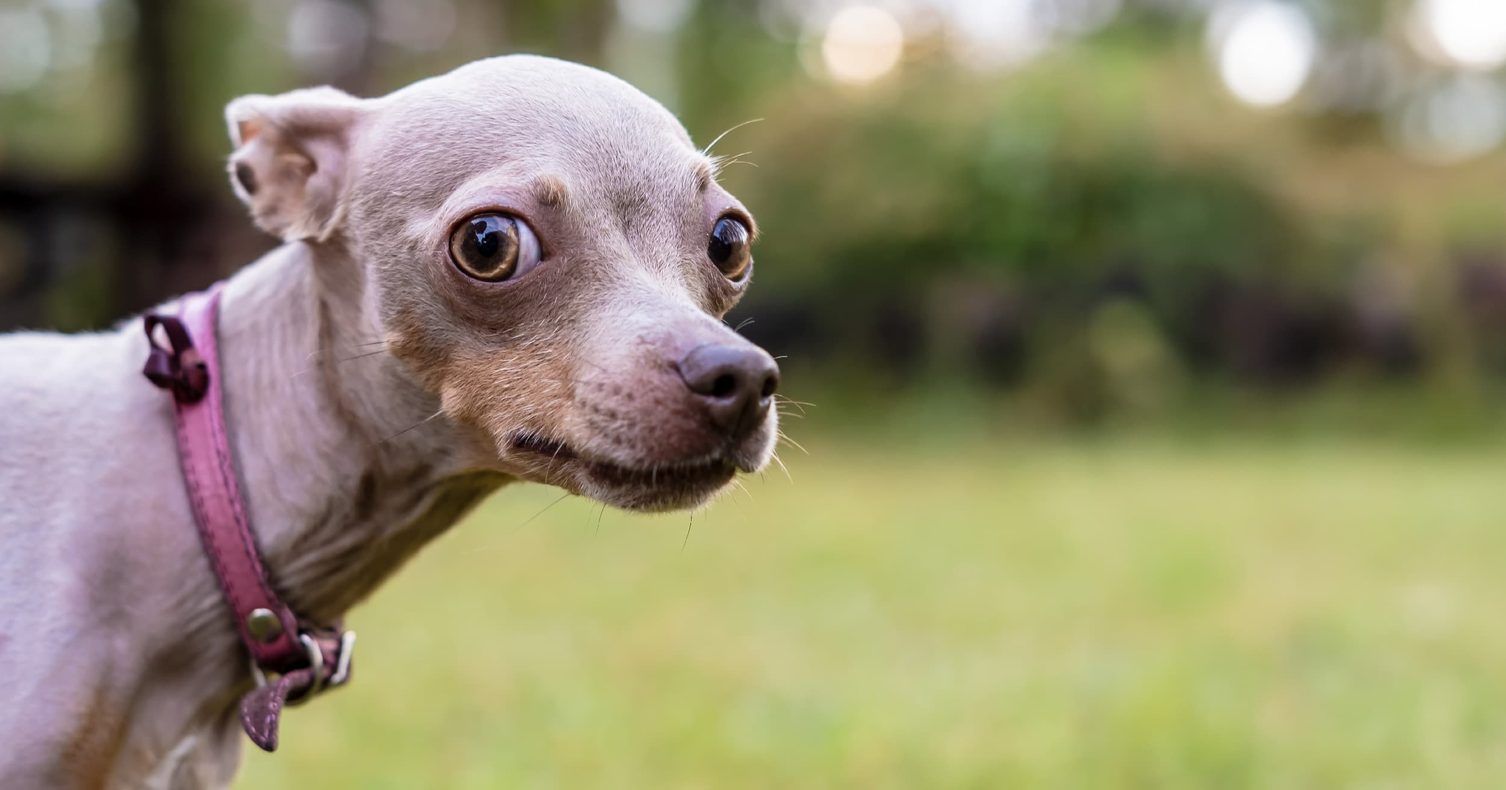Dog: (2, 52, 802, 788)
